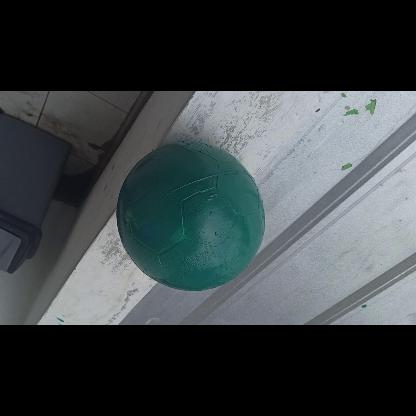green_ball: (120, 143, 268, 292)
